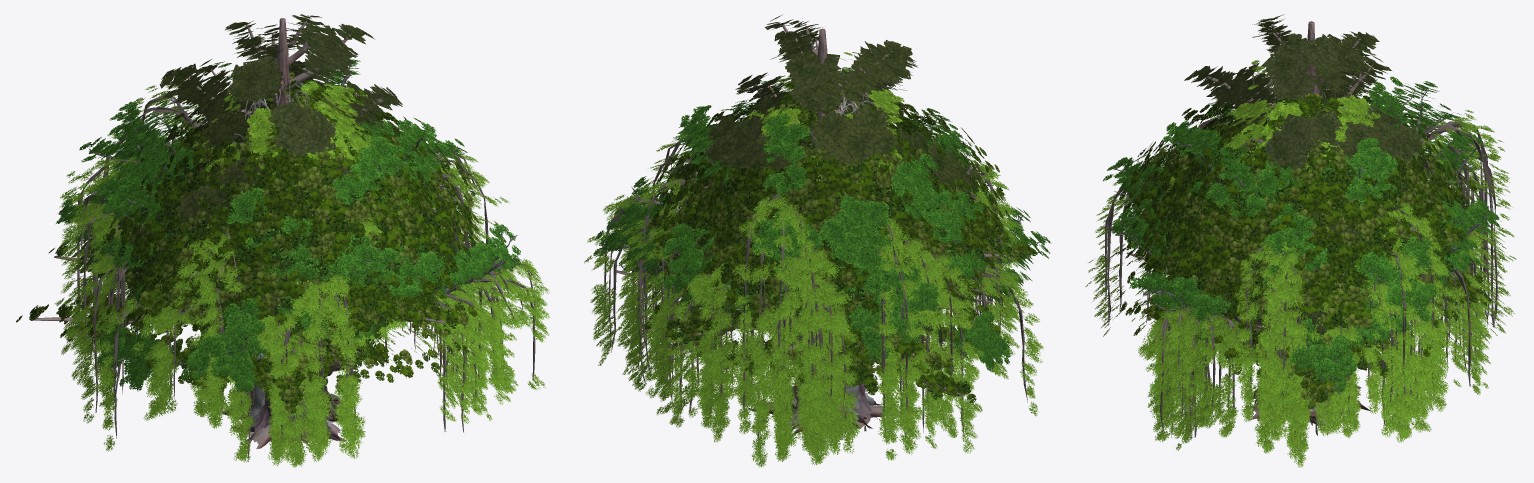
Rendered from hero_trees_web.glb.
3 views of the same model, side by side, from view 1: azimuth 30°, elevation 25°; view 2: azimuth 150°, elevation 25°; view 3: azimuth 270°, elevation 25° (orthographic). The views are drawn at different scales.
Visible parts, largest first — view 1: willow_Leaves, oak_v3_Leaves, beech_Leaves, willow_LodLeaves, oak_v3_LodLeaves, pine_Leaves, beech_LodLeaves, willow_Wood, pine_LodLeaves, oak_v3c_Leaves, willow_LodWood, birch_Leaves (+7 smaller); view 2: willow_Leaves, oak_v3_Leaves, beech_Leaves, willow_LodLeaves, pine_Leaves, oak_v3_LodLeaves, beech_LodLeaves, willow_Wood, pine_LodLeaves, oak_v3c_Leaves, willow_LodWood, birch_Leaves (+6 smaller); view 3: willow_Leaves, oak_v3_Leaves, beech_Leaves, willow_LodLeaves, pine_Leaves, oak_v3_LodLeaves, beech_LodLeaves, willow_Wood, pine_LodLeaves, oak_v3c_Leaves, willow_LodWood, birch_Leaves (+5 smaller).
Boxes of the visible parts, x1,y1,x2,y2 form: willow_Leaves: (54, 75, 549, 467); oak_v3_Leaves: (98, 101, 480, 393); beech_Leaves: (56, 45, 520, 392); willow_LodLeaves: (60, 85, 543, 452); oak_v3_LodLeaves: (110, 96, 479, 371); pine_Leaves: (97, 14, 402, 337); beech_LodLeaves: (59, 61, 515, 391); willow_Wood: (77, 96, 539, 466); pine_LodLeaves: (168, 17, 402, 298); oak_v3c_Leaves: (16, 125, 468, 413); willow_LodWood: (77, 94, 535, 452); birch_Leaves: (207, 81, 367, 332); willow_Leaves: (584, 115, 1043, 467); oak_v3_Leaves: (644, 92, 1013, 387); beech_Leaves: (593, 67, 1051, 372); willow_LodLeaves: (591, 120, 1037, 444); pine_Leaves: (675, 15, 980, 332); oak_v3_LodLeaves: (648, 101, 1005, 347); beech_LodLeaves: (600, 81, 1044, 360); willow_Wood: (602, 138, 1027, 444); pine_LodLeaves: (689, 22, 965, 228); oak_v3c_Leaves: (607, 107, 1037, 402); willow_LodWood: (604, 142, 1024, 427); birch_Leaves: (748, 52, 904, 211); willow_Leaves: (1085, 103, 1516, 467); oak_v3_Leaves: (1119, 89, 1479, 383); beech_Leaves: (1103, 77, 1500, 400); willow_LodLeaves: (1093, 103, 1511, 430); pine_Leaves: (1184, 17, 1422, 334); oak_v3_LodLeaves: (1124, 97, 1476, 364); beech_LodLeaves: (1116, 76, 1494, 381); willow_Wood: (1105, 115, 1497, 451); pine_LodLeaves: (1192, 14, 1405, 222); oak_v3c_Leaves: (1111, 146, 1491, 409); willow_LodWood: (1105, 108, 1496, 437); birch_Leaves: (1226, 60, 1380, 322).
Bounding box in the file's own units: 18.1 × 16 × 16.57.
Materials: 14 (14 with a texture image).
